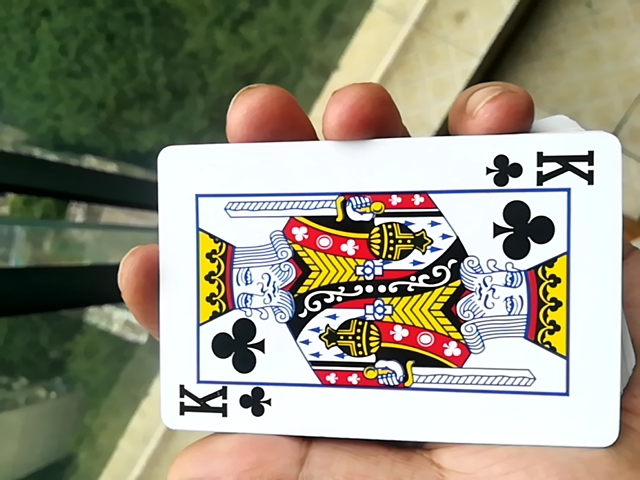mh k: (141, 134, 613, 455)
